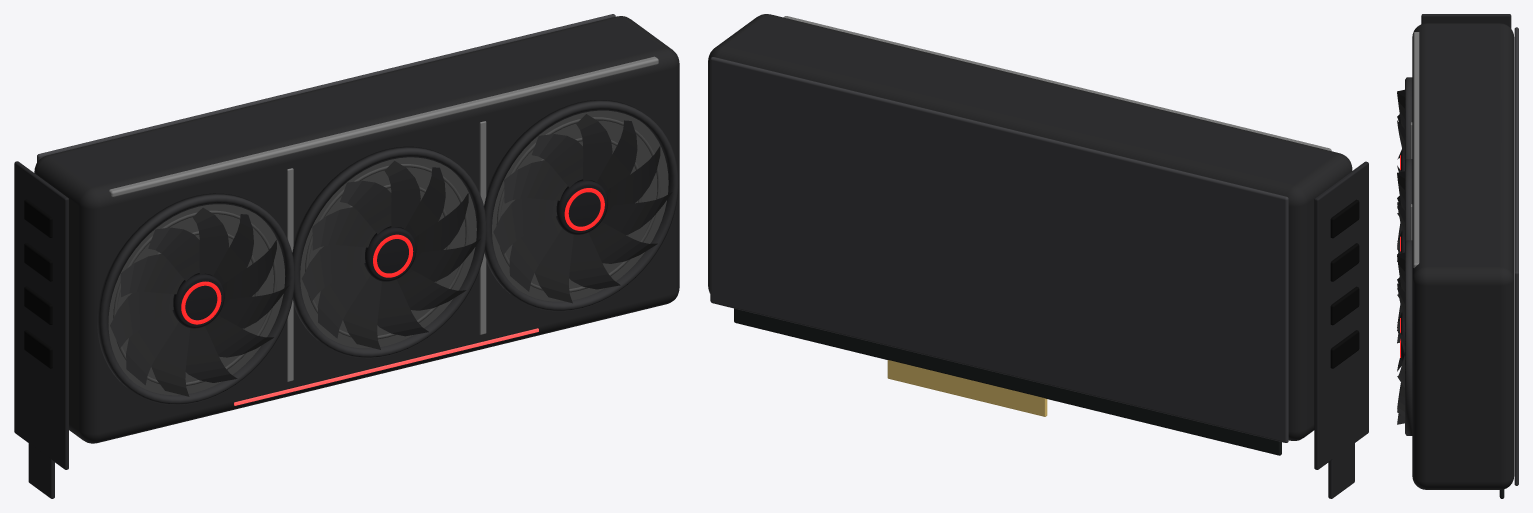
The model's file is product-11-1791387763889.glb.
The picture shows the model from 3 angles, left to right: view 1: azimuth 30°, elevation 25°; view 2: azimuth 150°, elevation 25°; view 3: azimuth 270°, elevation 25°; orthographic projection. The views are drawn at different scales.
Parts seen in each view (by area): view 1: shroud, blade, ring, heat, bracket, trim, hub, ports, backplate, glow, stripe, tab; view 2: backplate, shroud, bracket, pcb, fingers, ports, trim, tab; view 3: shroud, ring, backplate, blade, trim, bracket, hub.
Boxes of the visible parts, x1,y1,x2,y2 form: shroud: [34, 16, 679, 443]; blade: [110, 114, 672, 396]; ring: [97, 100, 678, 404]; heat: [108, 110, 668, 395]; bracket: [14, 161, 68, 469]; trim: [109, 56, 658, 381]; hub: [172, 179, 607, 328]; ports: [24, 199, 52, 368]; backplate: [37, 14, 615, 162]; glow: [181, 188, 604, 324]; stripe: [234, 328, 538, 405]; tab: [28, 443, 54, 498]; backplate: [710, 57, 1288, 442]; shroud: [708, 14, 1352, 440]; bracket: [1314, 161, 1368, 469]; pcb: [734, 308, 1281, 455]; fingers: [887, 360, 1047, 416]; ports: [1330, 199, 1359, 368]; trim: [783, 16, 1331, 150]; tab: [1328, 443, 1354, 498]; shroud: [1412, 23, 1514, 489]; ring: [1405, 77, 1412, 435]; backplate: [1514, 27, 1518, 485]; blade: [1397, 89, 1404, 424]; trim: [1410, 32, 1419, 267]; bracket: [1421, 14, 1511, 28]; hub: [1401, 151, 1404, 361].
Bounding box in the file's own units: 0.3045 × 0.1475 × 0.0598.
